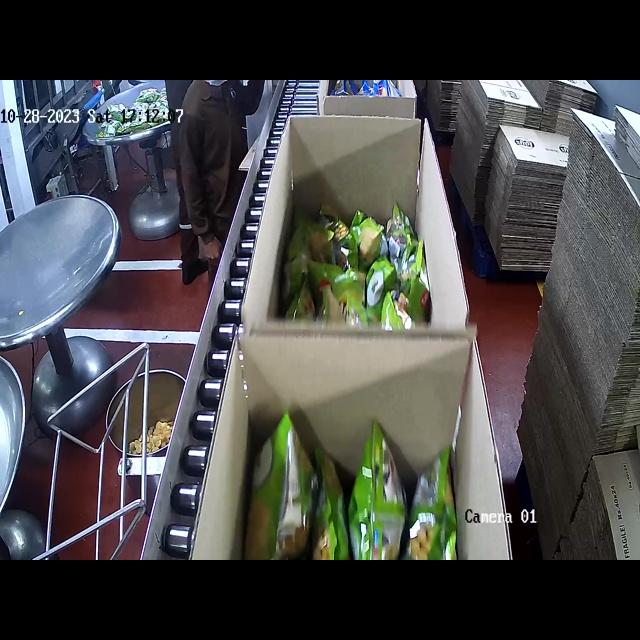paprika: (329, 86, 397, 98)
yogurt: (252, 414, 463, 560), (294, 193, 421, 314)
